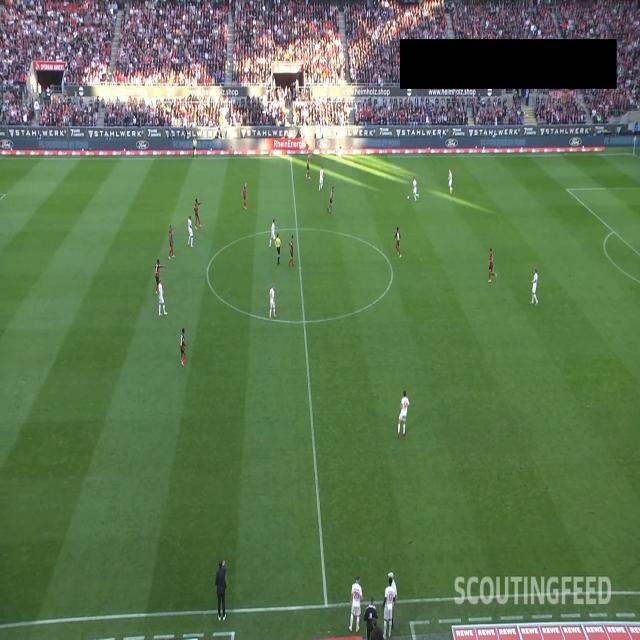ball: (407, 195, 410, 200)
